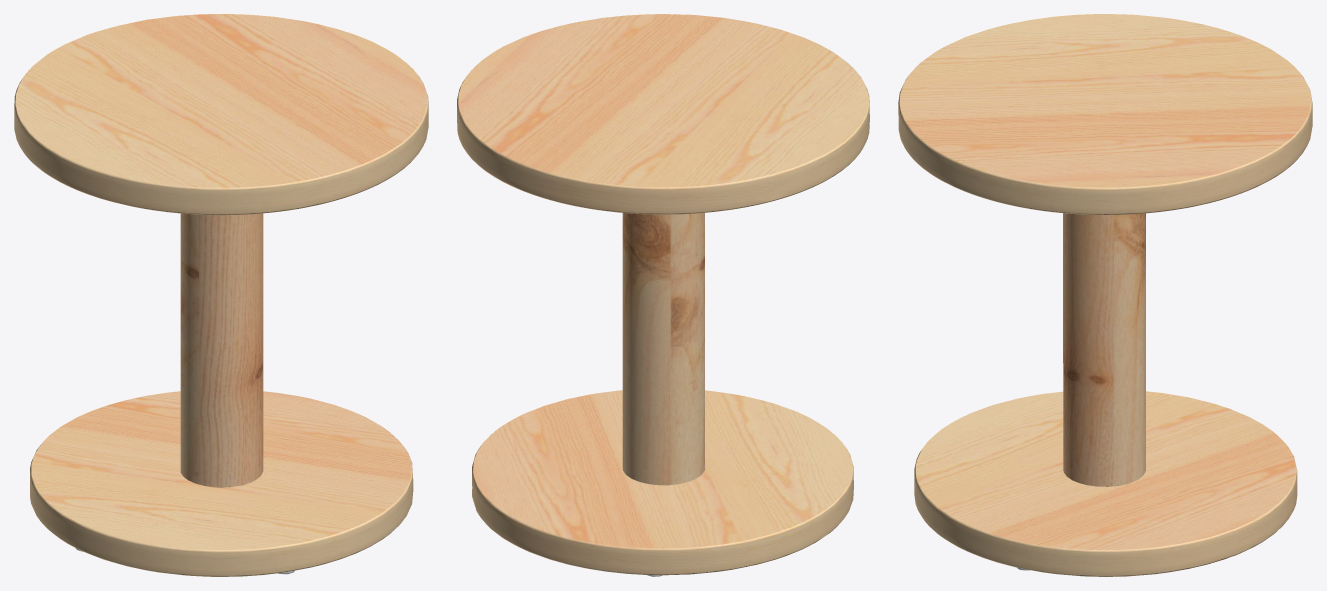
The model's file is stockholm_2025_stolik_90586563.glb.
3 views of the same model, side by side, from view 1: azimuth 30°, elevation 25°; view 2: azimuth 150°, elevation 25°; view 3: azimuth 270°, elevation 25° (orthographic).
Parts seen in each view (by area): view 1: stockholm_2025_stolik_90586563; view 2: stockholm_2025_stolik_90586563; view 3: stockholm_2025_stolik_90586563.
Boxes of the visible parts, x1=… form: stockholm_2025_stolik_90586563: x1=14, y1=14, x2=428, y2=576; stockholm_2025_stolik_90586563: x1=457, y1=14, x2=869, y2=576; stockholm_2025_stolik_90586563: x1=898, y1=14, x2=1312, y2=576.
Bounding box in the file's own units: 0.4002 × 0.4267 × 0.4002.
1 material, 1 textured.
